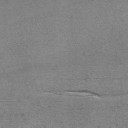finishing roll printing: (44, 90, 100, 98), (68, 78, 123, 81)
